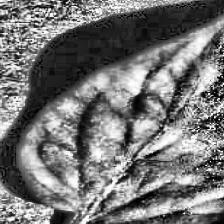leaf mold: (24, 0, 224, 224)
